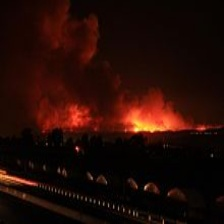fire: (124, 117, 178, 134)
smoke: (1, 2, 200, 123)
